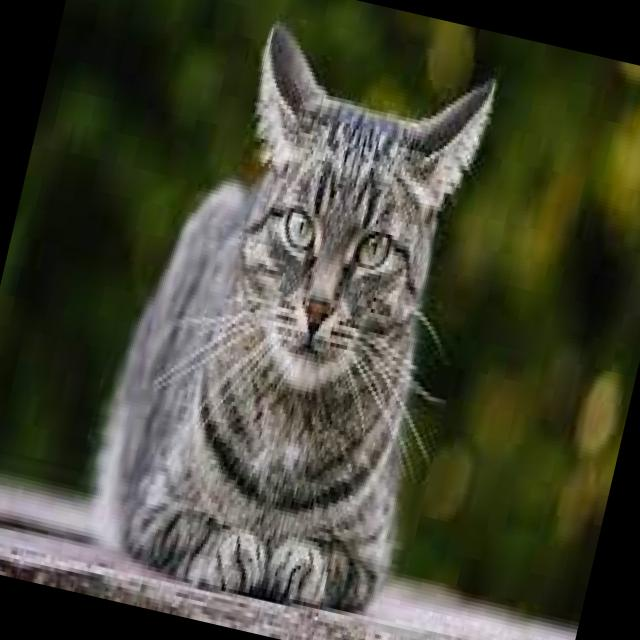Cat: (155, 29, 512, 436)
